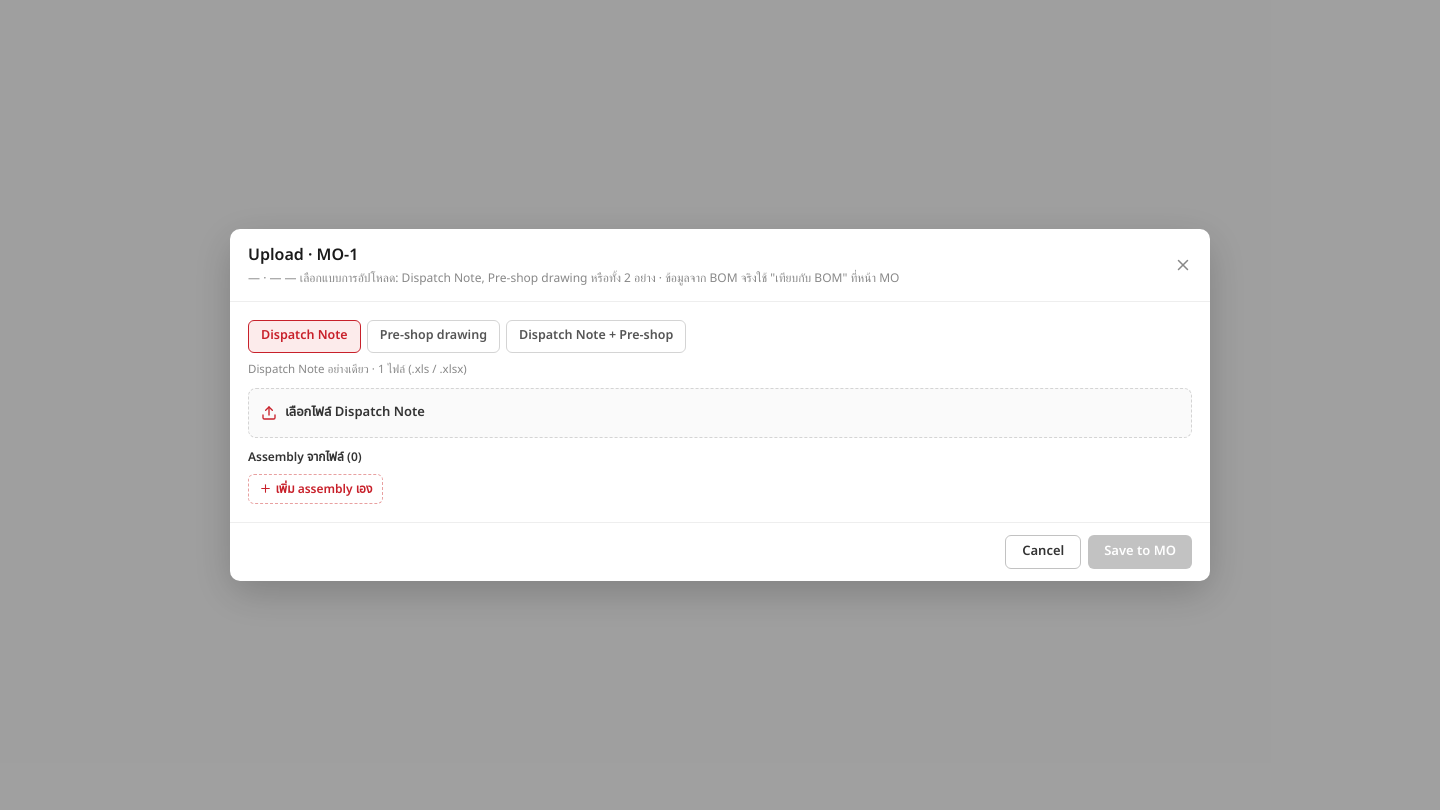
Test: PreshopUploadModal — a dropped pairing (fix round) › pair, then a fresh dry run drops the candidate → row reverts to plain new, notice shown
Click the button "เพิ่ม assembly เอง" at (316, 489), box [248,474,383,504]
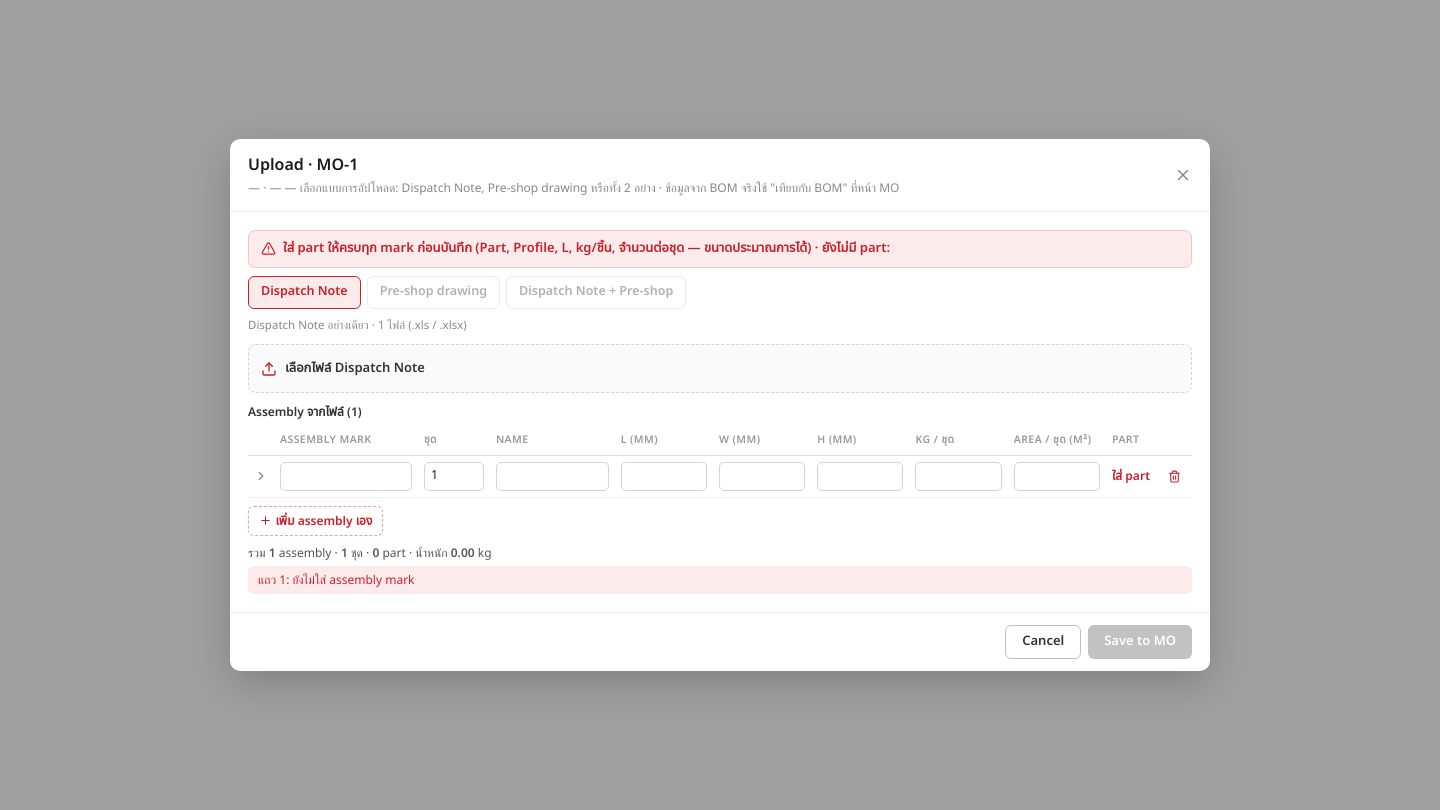
Type "9BUH1B-4" into the 1st field at (346, 476), box [280,462,412,491]
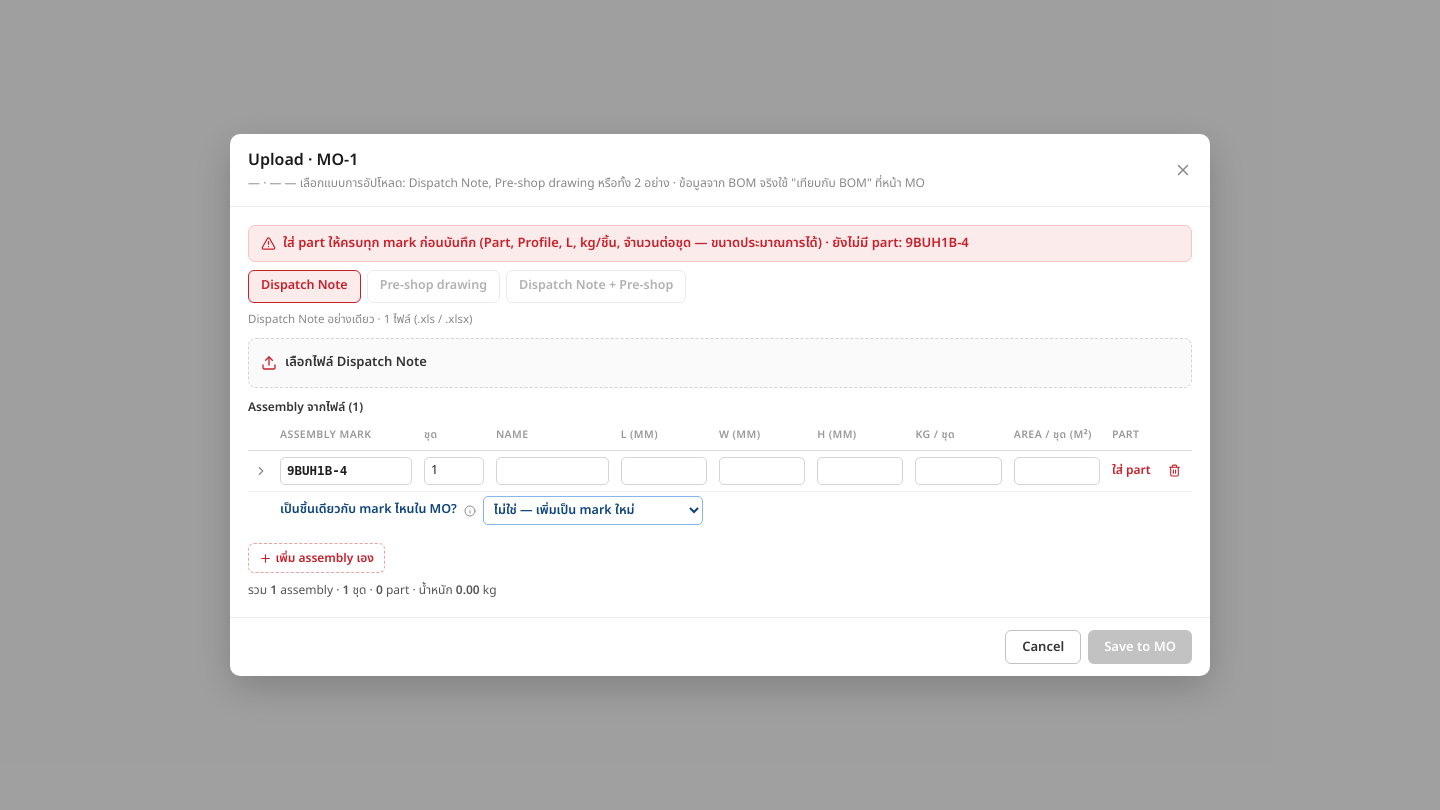
Result: the dropdown named "จับคู่กับ mark เดิมของ 9BUH1B-4" is shown
first dry run resolves with the candidate offered
Select "2BUH1B-4" in the dropdown named "จับคู่กับ mark เดิมของ 9BUH1B-4" at (593, 511), box [483,496,703,525]
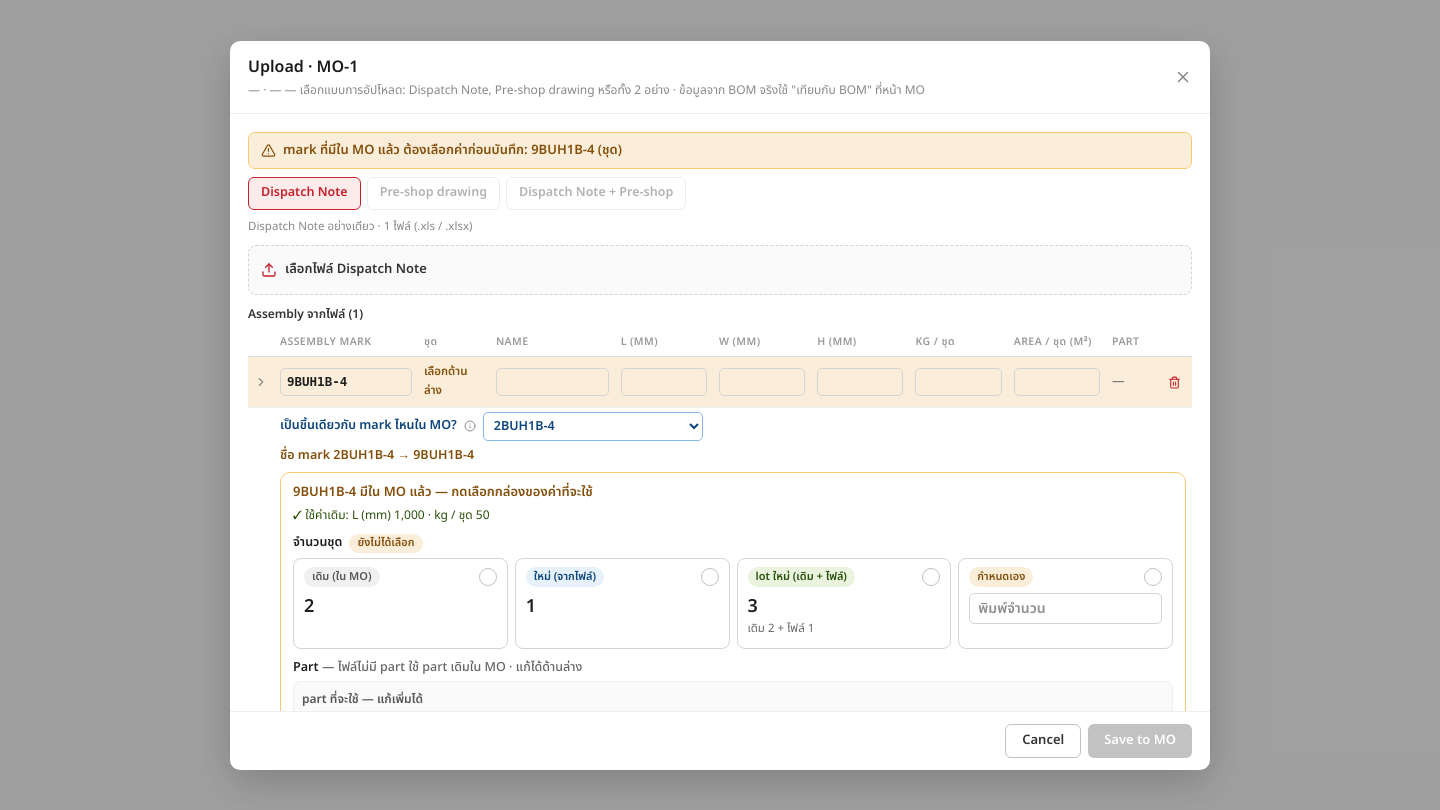
Result: the text "ชื่อ mark 2BUH1B-4 → 9BUH1B-4" is shown at [280,446,474,465]
Result: the text "เลือกด้านล่าง" is shown at [424,363,468,399]
Type "renamed in the file too" into the 2nd field at (552, 382), box [496,368,609,396]
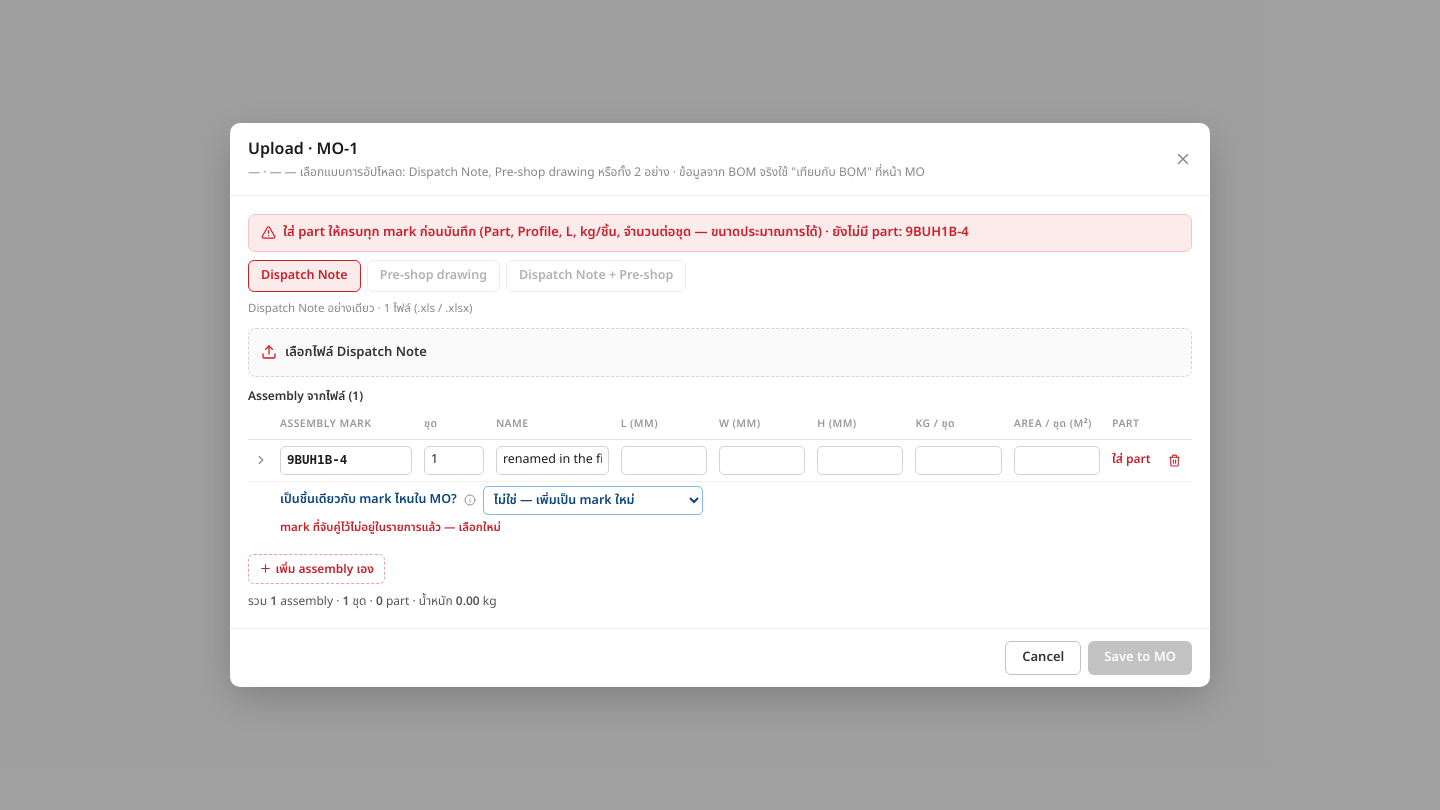
Result: the text "mark ที่จับคู่ไว้ไม่อยู่ในรายการแล้ว — เลือกใหม่" is shown at [280,519,501,536]
Result: the text "ชื่อ mark 2BUH1B-4 → 9BUH1B-4" is gone
Result: the text "เลือกด้านล่าง" is gone
